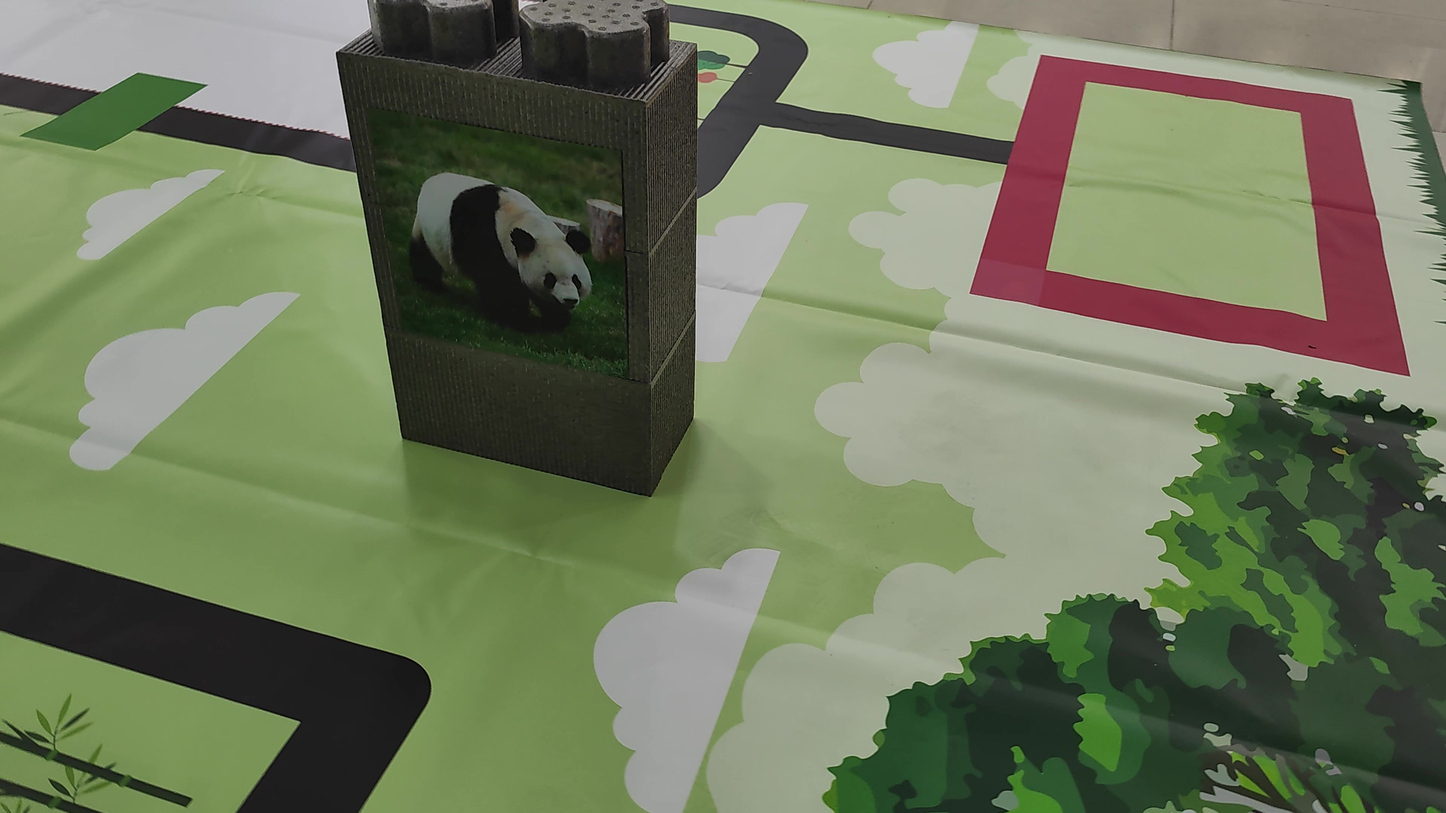panda: (392, 144, 625, 332)
